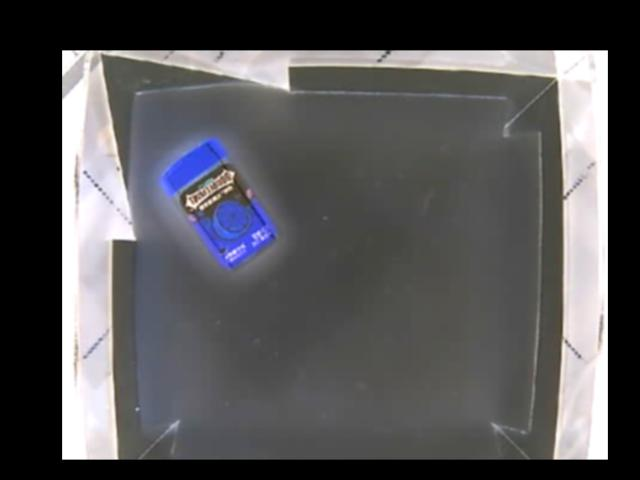Bottle: (159, 139, 283, 275)
